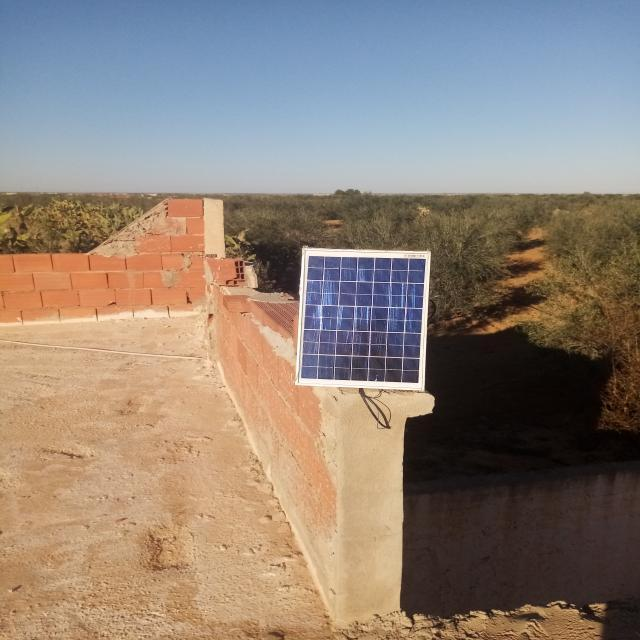no faulty: (297, 249, 430, 390)
